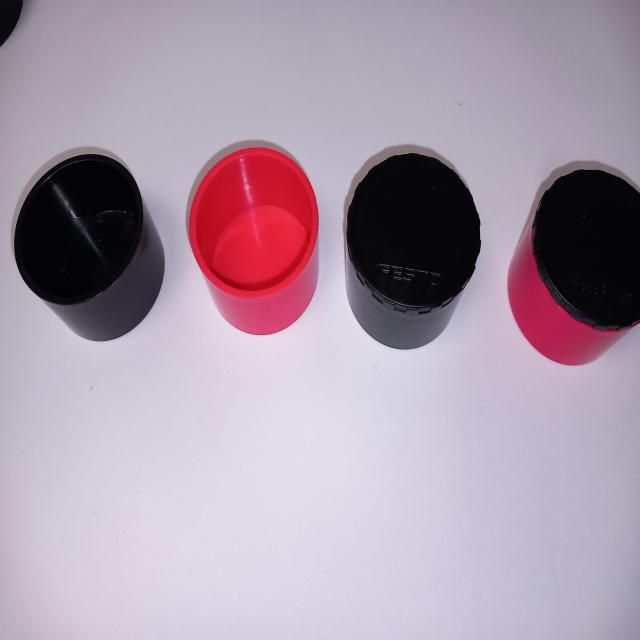NoLid: (4, 141, 180, 349), (183, 140, 334, 343)
Workpiece: (340, 144, 493, 365), (507, 142, 640, 376)
